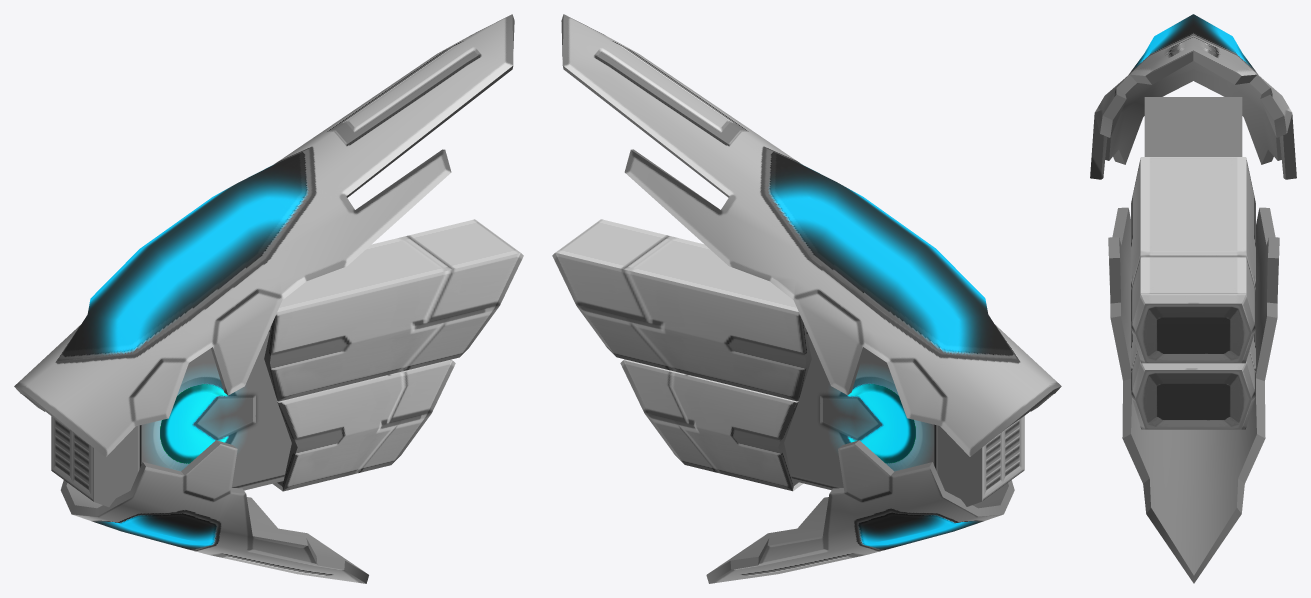
The model's file is thrusters_v2.fbx.
3 views of the same model, side by side, from view 1: azimuth 30°, elevation 25°; view 2: azimuth 150°, elevation 25°; view 3: azimuth 270°, elevation 25° (orthographic). The views are drawn at different scales.
Visible parts, largest first — view 1: thrusters; view 2: thrusters; view 3: thrusters.
Boxes of the visible parts, x1,y1,x2,y2 form: thrusters: (14, 14, 523, 583); thrusters: (552, 14, 1061, 583); thrusters: (1090, 14, 1296, 583).
Size of the model in its own units: 4.1 by 4.25 by 1.3.
